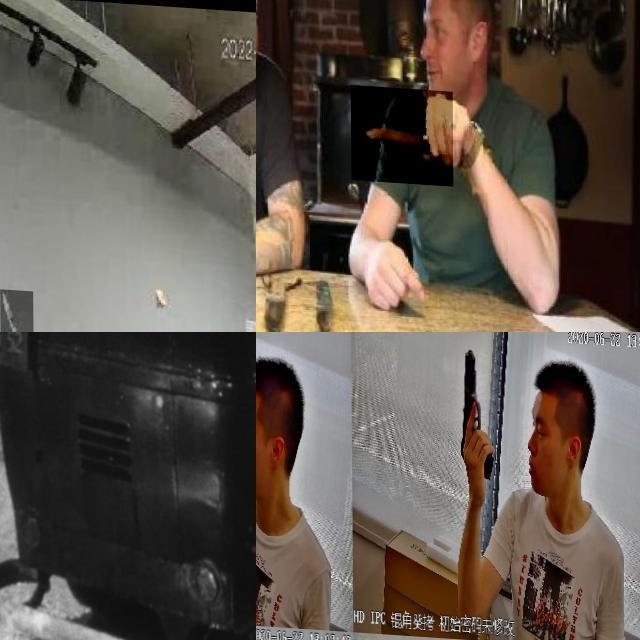-: (351, 80, 454, 180), (0, 285, 33, 332)
gun-knife-thesis - v11 Yolov5 augmented: (456, 339, 494, 474), (256, 339, 281, 477)
